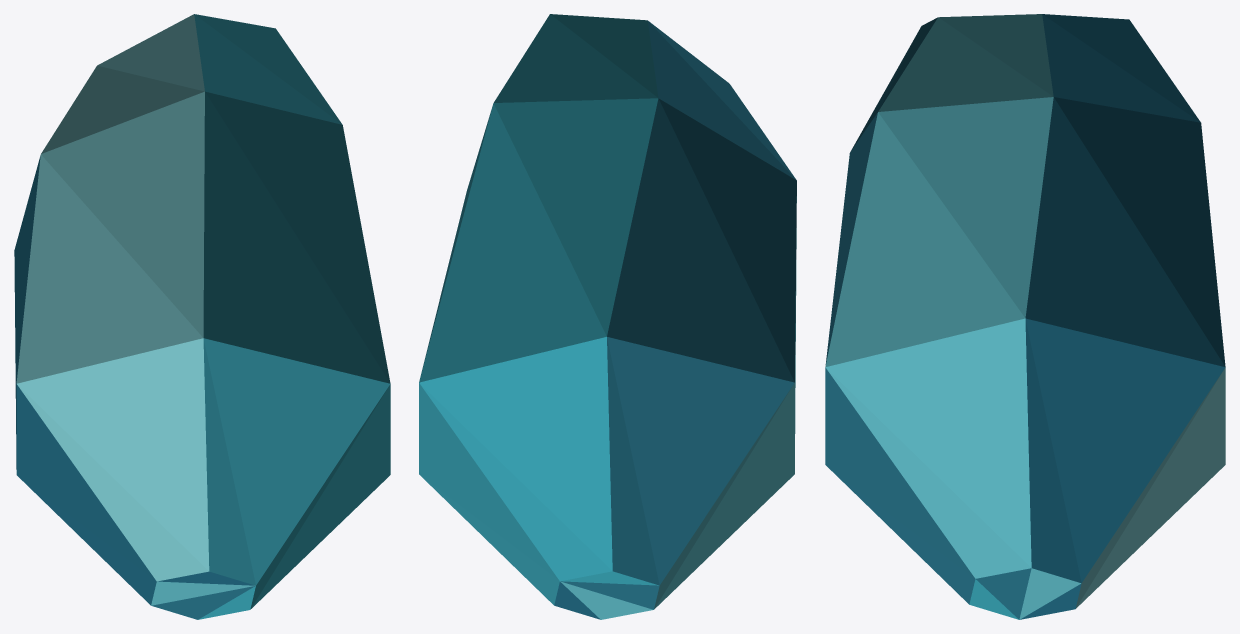
Rendered from crystal.glb.
3 renders of one model, left to right at view 1: azimuth 30°, elevation 25°; view 2: azimuth 150°, elevation 25°; view 3: azimuth 270°, elevation 25°, orthographic. The views are drawn at different scales.
Parts seen in each view (by area): view 1: crystal_crystal_5; view 2: crystal_crystal_5; view 3: crystal_crystal_5.
Boxes of the visible parts, bbox=[...] form: crystal_crystal_5: bbox=[14, 14, 390, 619]; crystal_crystal_5: bbox=[419, 14, 796, 619]; crystal_crystal_5: bbox=[825, 14, 1225, 619].
Bounding box in the file's own units: 1.2 × 1.71 × 1.04.
